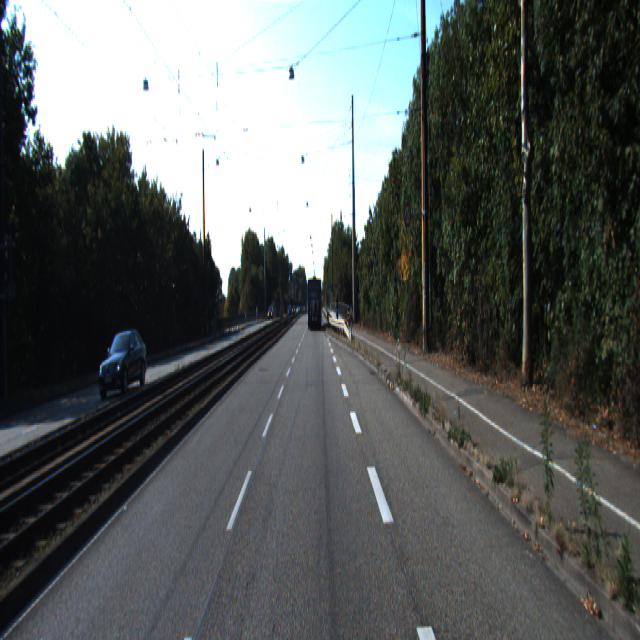Car: (99, 331, 149, 401), (307, 278, 322, 330)
